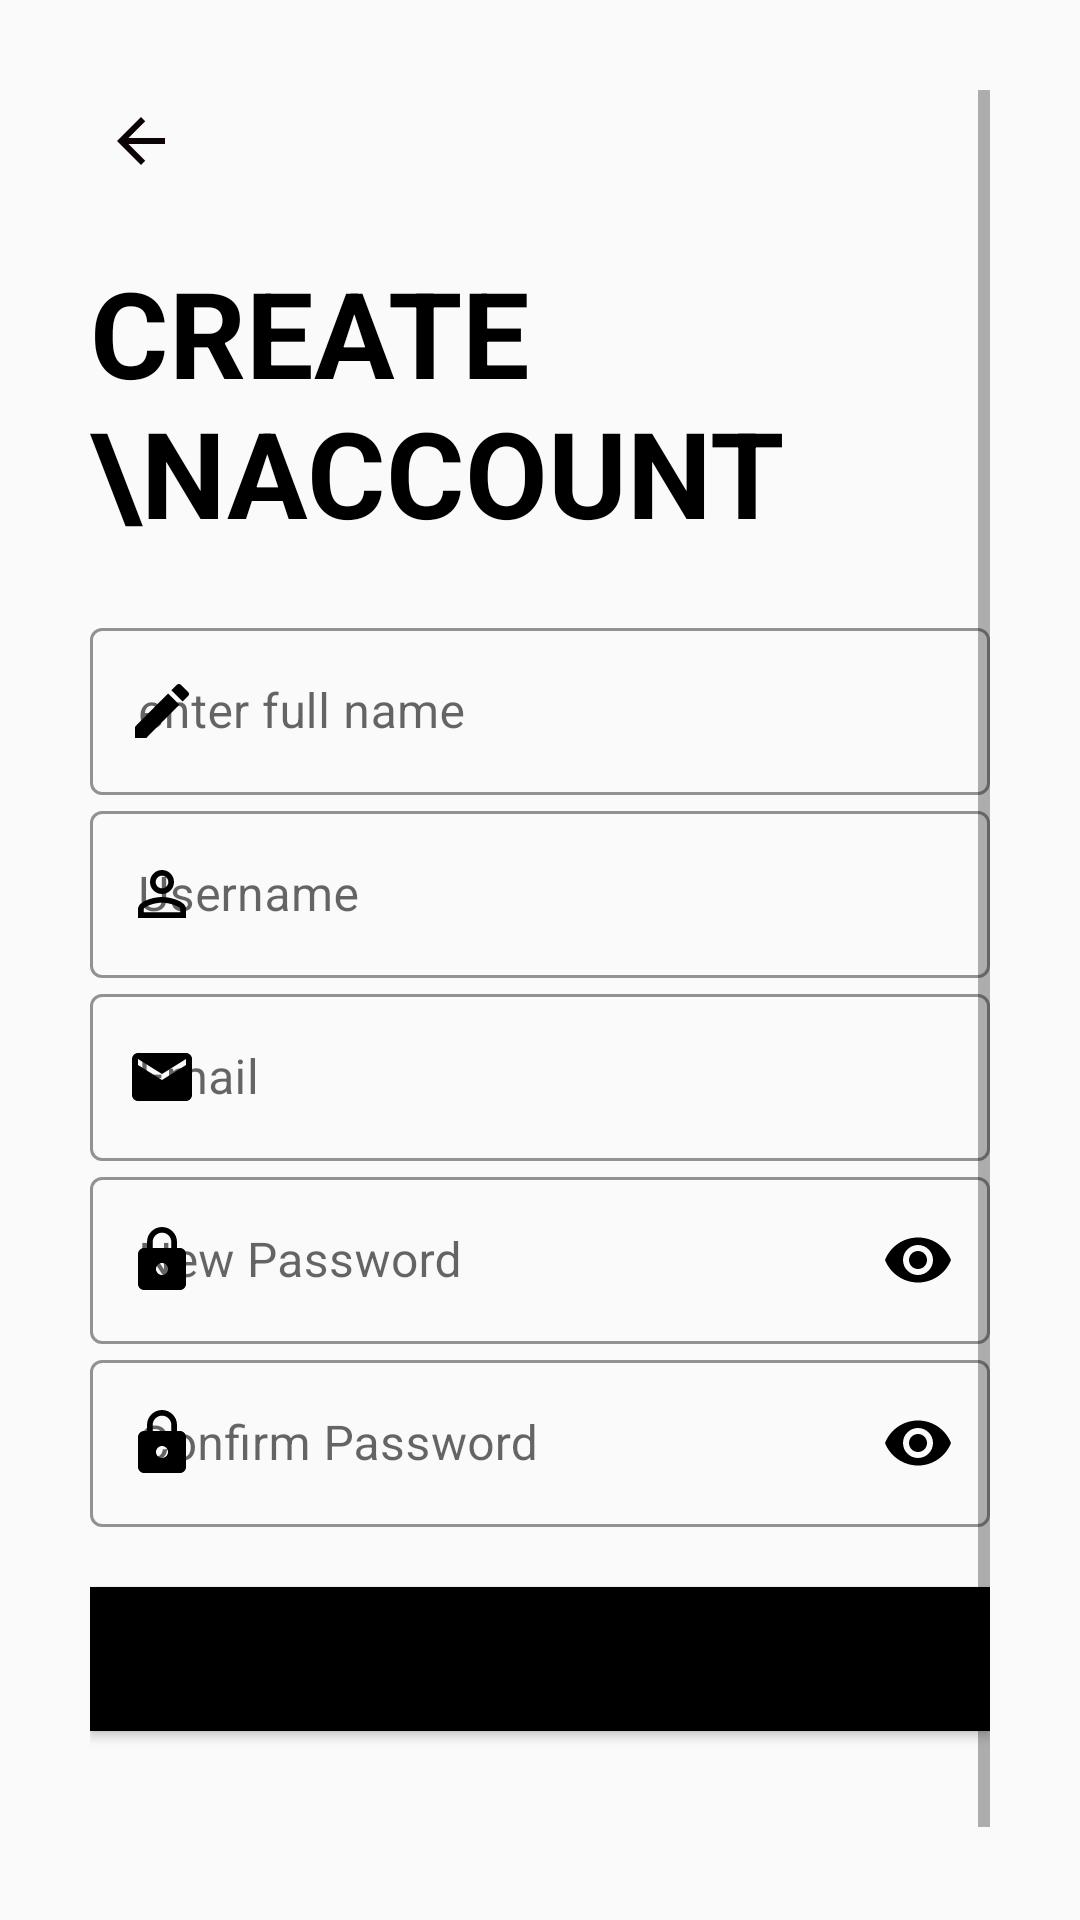

Named icons in this screenshot (1080x1920) and their bounding boxes, (x1, y1, x2, y2):
arrow back: (117, 117, 165, 165)
